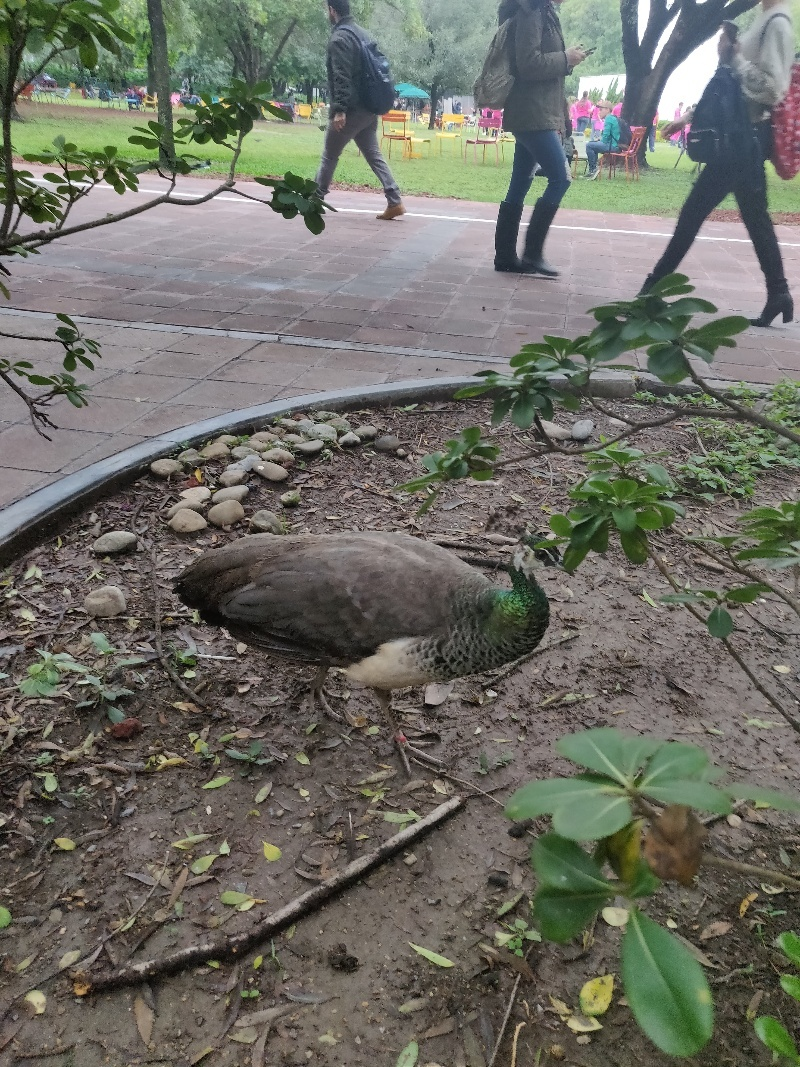pavoreal: (177, 533, 565, 733)
